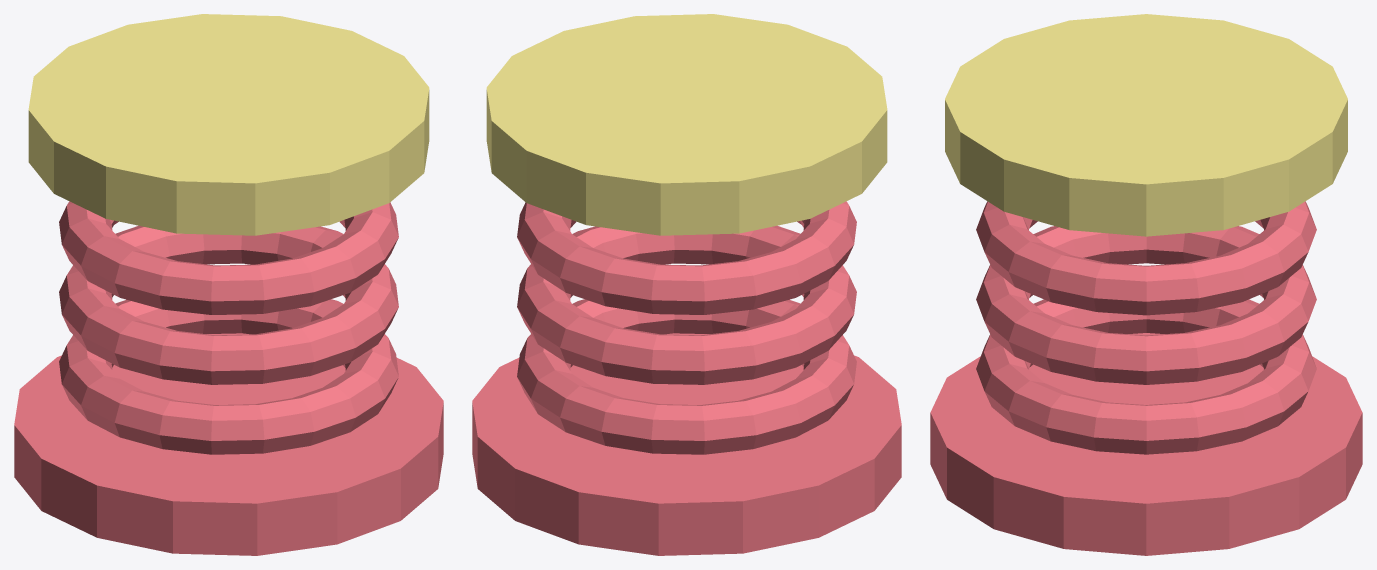
Rendered from spring_pad.glb.
3 renders of one model, left to right at view 1: azimuth 30°, elevation 25°; view 2: azimuth 150°, elevation 25°; view 3: azimuth 270°, elevation 25°, orthographic.
Parts seen in each view (by area): view 1: spring_pad; view 2: spring_pad; view 3: spring_pad.
Part boxes in pixels (left/top/right/bottom): spring_pad: left=14, top=14, right=443, bottom=555; spring_pad: left=472, top=14, right=901, bottom=555; spring_pad: left=930, top=14, right=1362, bottom=555.
Bounding box in the file's own units: 0.9 × 0.84 × 0.9.
